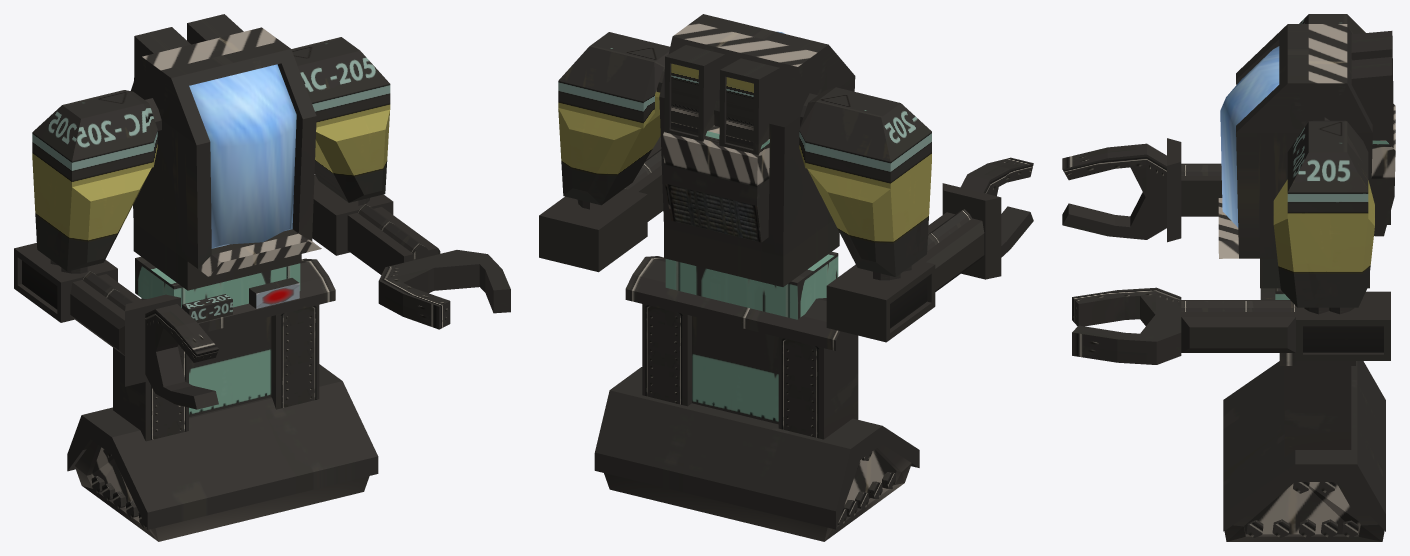
The model's file is worker_drone_v2.dae.
3 views of the same model, side by side, from view 1: azimuth 30°, elevation 25°; view 2: azimuth 150°, elevation 25°; view 3: azimuth 270°, elevation 25° (orthographic). The views are drawn at different scales.
Parts seen in each view (by area): view 1: drone_worker; view 2: drone_worker; view 3: drone_worker.
Part boxes in pixels (x1,y1,x2,y2): drone_worker: (14,14,510,541); drone_worker: (539,14,1033,541); drone_worker: (1062,14,1395,541).
Size of the model in its own units: 5.68 by 4.51 by 6.55.
